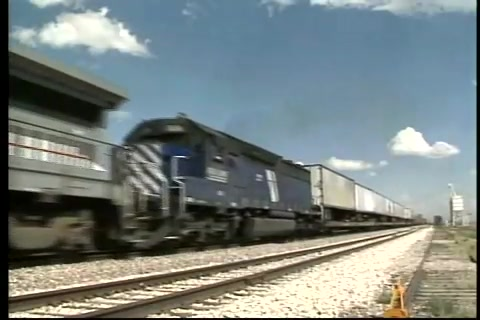train: (10, 47, 414, 265)
